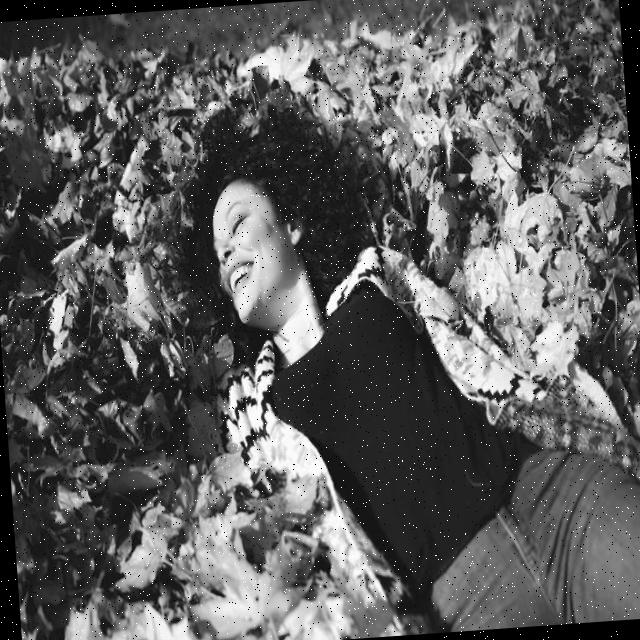Happiness: (204, 172, 296, 331)
